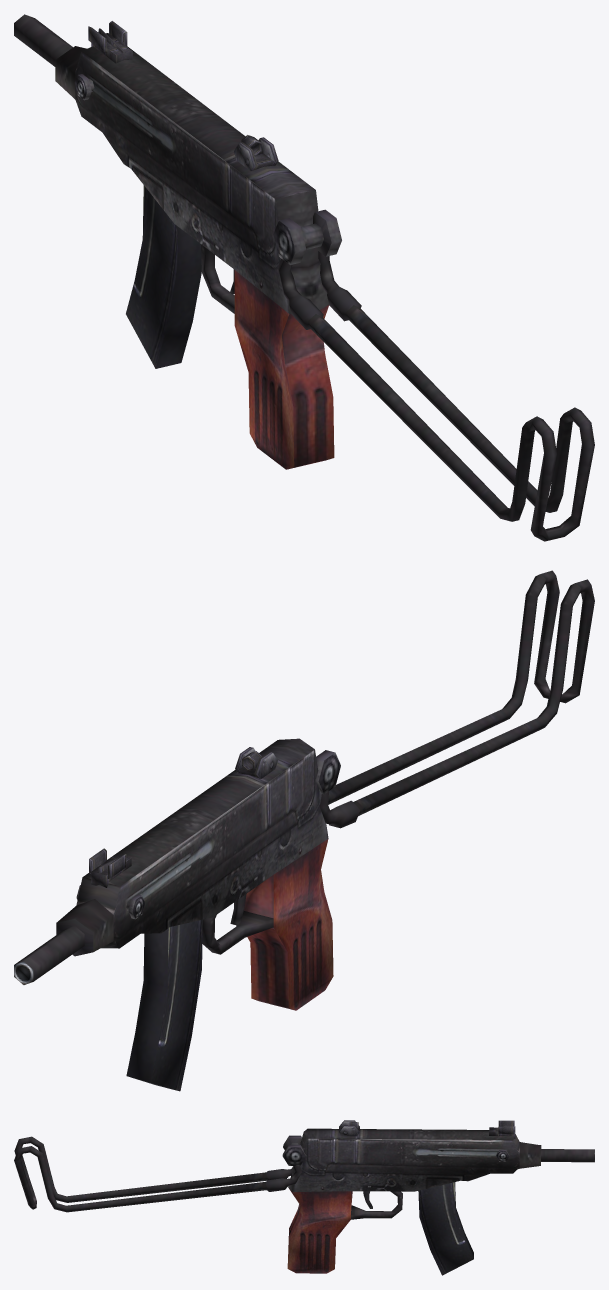
Rendered from Skorpion.fbx.
The picture shows the model from 3 angles, top to bottom: view 1: azimuth 30°, elevation 25°; view 2: azimuth 150°, elevation 25°; view 3: azimuth 270°, elevation 25°; orthographic projection. The views are drawn at different scales.
Parts seen in each view (by area): view 1: Skorpion, Stock, Mag, Stock Hinge, Sights, Barrel; view 2: Skorpion, Stock, Mag, Sights, Barrel, Stock Hinge; view 3: Skorpion, Stock, Mag, Barrel, Sights, Stock Hinge.
Boxes of the visible parts, bbox=[...] form: Skorpion: bbox=[55, 46, 334, 469]; Stock: bbox=[278, 251, 594, 541]; Mag: bbox=[126, 185, 201, 368]; Stock Hinge: bbox=[273, 209, 341, 264]; Sights: bbox=[88, 21, 278, 170]; Barrel: bbox=[14, 14, 72, 66]; Skorpion: bbox=[56, 738, 333, 1010]; Stock: bbox=[319, 570, 594, 828]; Mag: bbox=[126, 919, 202, 1091]; Sights: bbox=[89, 747, 277, 887]; Barrel: bbox=[14, 925, 84, 984]; Stock Hinge: bbox=[315, 750, 340, 794]; Skorpion: bbox=[287, 1128, 541, 1273]; Stock: bbox=[14, 1136, 301, 1212]; Mag: bbox=[418, 1182, 473, 1275]; Barrel: bbox=[541, 1149, 594, 1162]; Sights: bbox=[339, 1120, 515, 1138]; Stock Hinge: bbox=[282, 1135, 306, 1165].
Bounding box in the file's own units: 35.28 × 143 × 501.
Materials: 1 (1 with a texture image).
